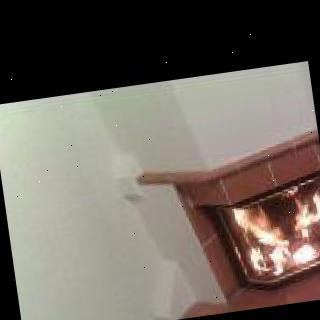fire: (227, 180, 320, 274)
